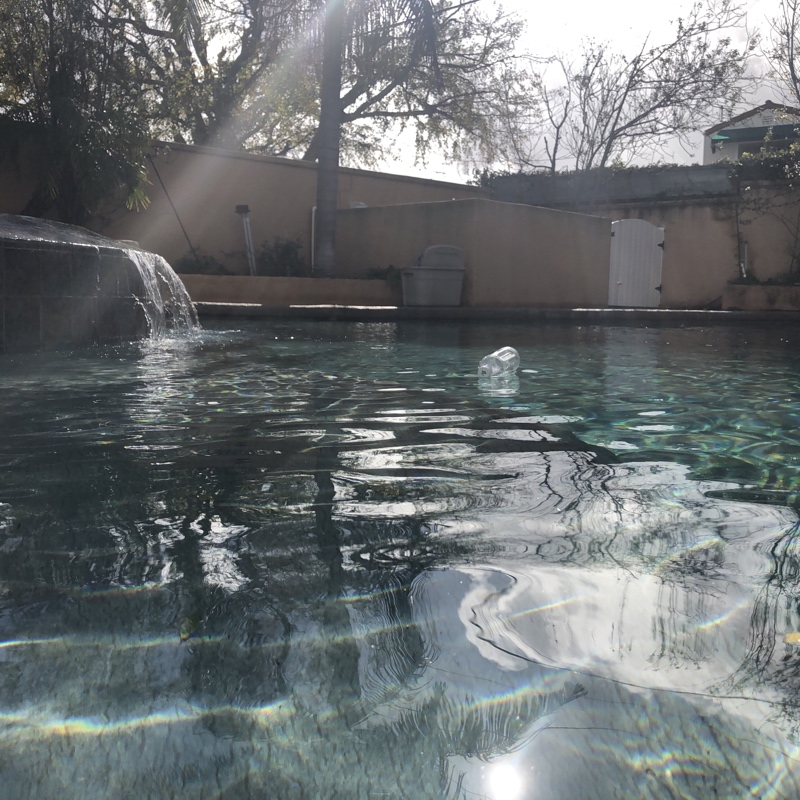Plastic Bottle: (474, 347, 525, 384)
